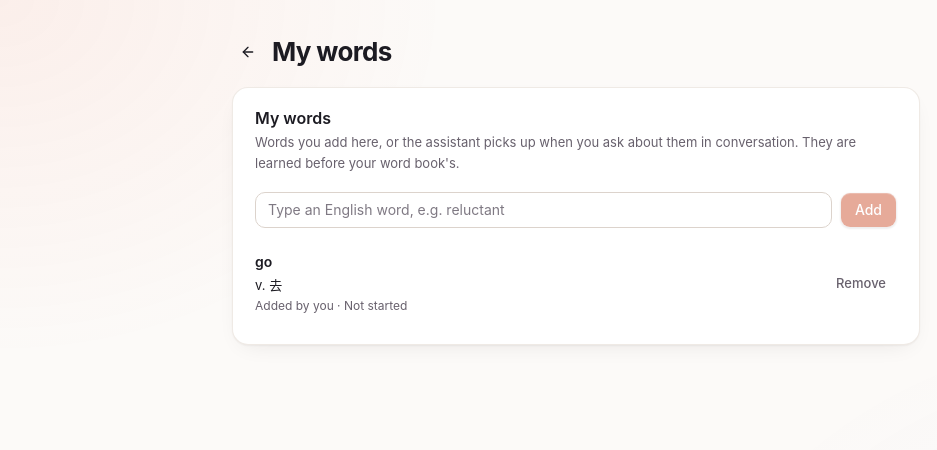
it: MineApp › removes a word after confirming
Note: The button turns into the question with Delete / Cancel in its place.
What coordinates should you click on to do the following:
click the button "Remove"
I would click on:
 (861, 283)
Its box is [825, 267, 897, 299].
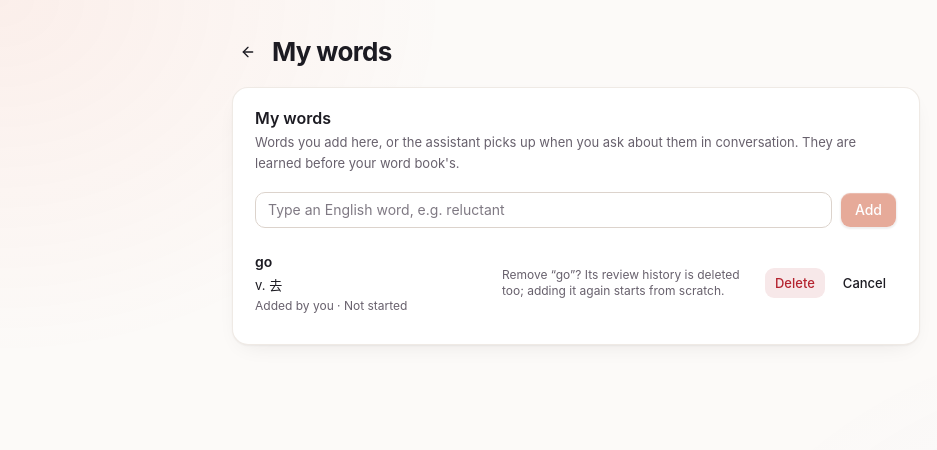
Result: the element named "Remove “go”? Its review history is deleted too; adding it ag" shows "review history" at [502, 267, 740, 298]
What coordinates should you click on to do the following:
click the button "Cancel"
I would click on:
 (864, 283)
Its box is [832, 267, 897, 299].
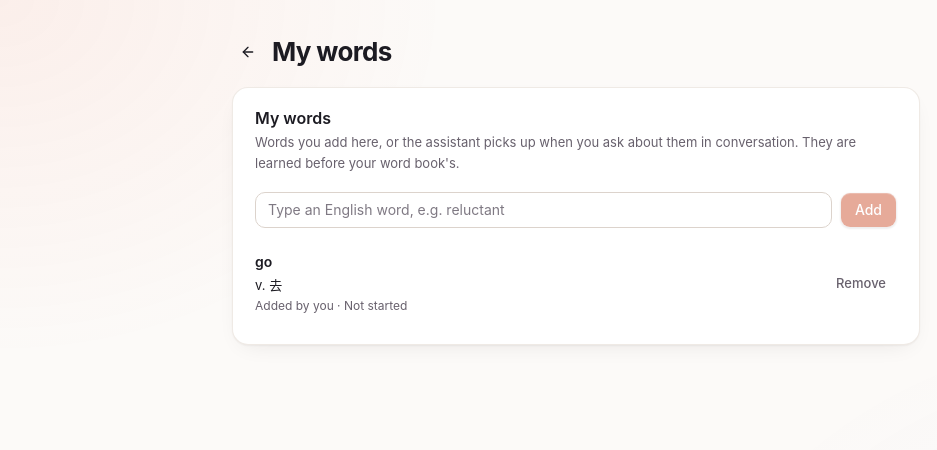
What coordinates should you click on to do the following:
click the button "Remove"
I would click on:
 (861, 283)
Its box is [825, 267, 897, 299].
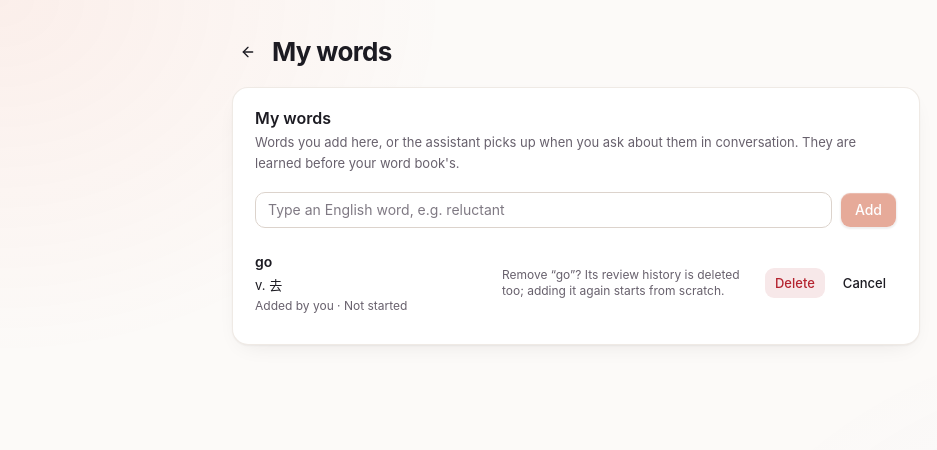
What coordinates should you click on to do the following:
click the button "Delete"
I would click on:
 (795, 283)
Its box is [764, 267, 826, 299].
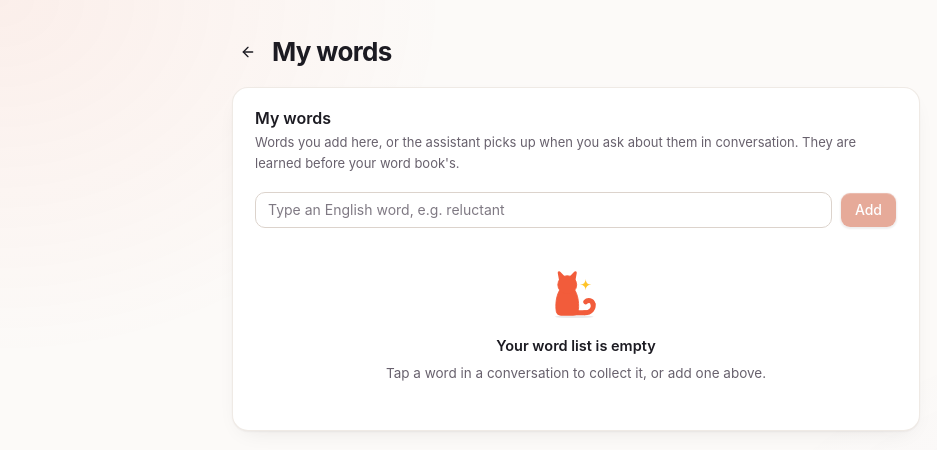
Result: the text "Your word list is empty" is shown at [496, 336, 656, 356]
